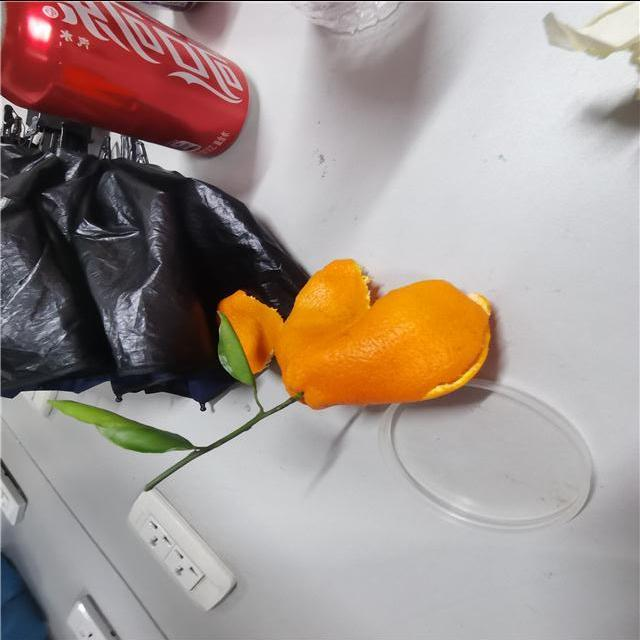orange peel: (277, 249, 505, 409)
